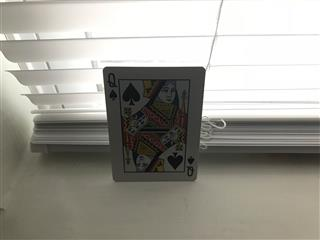QueenOfSpades: (101, 65, 207, 182)
